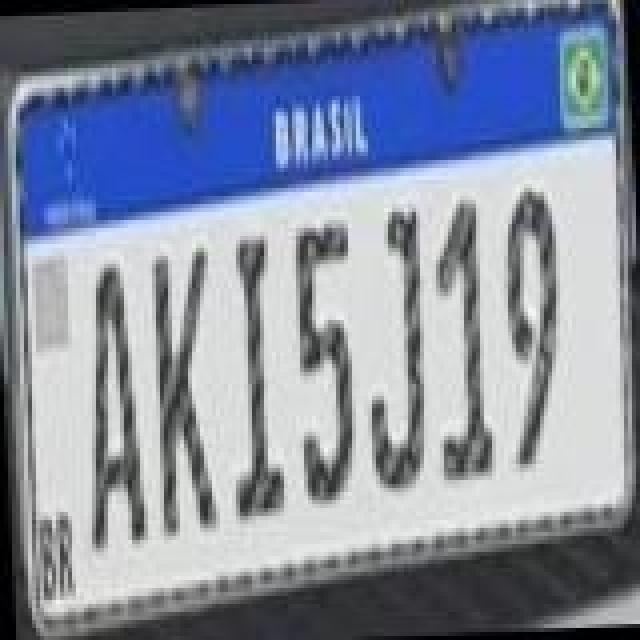1: (428, 190, 500, 482)
5: (290, 218, 366, 510)
9: (500, 178, 572, 470)
A: (76, 262, 148, 554)
I: (222, 230, 290, 522)
J: (358, 206, 434, 498)
K: (148, 244, 220, 540)
